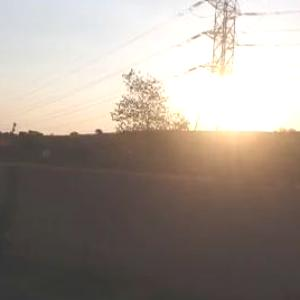follow: (0, 159, 15, 299)
